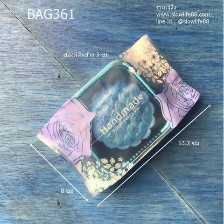snack: (28, 29, 206, 200)
